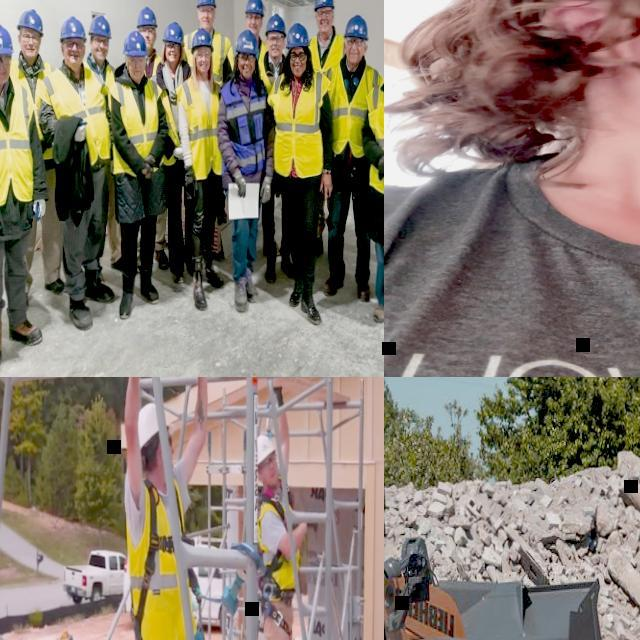helmet: (138, 400, 174, 448), (16, 7, 44, 37), (59, 15, 87, 44), (285, 23, 311, 49), (342, 15, 368, 40), (122, 31, 146, 58), (234, 30, 258, 55), (190, 29, 214, 54), (87, 14, 112, 38), (256, 435, 276, 465), (162, 21, 185, 45), (264, 14, 286, 38), (135, 6, 157, 29), (0, 22, 13, 55), (244, 0, 264, 16), (313, 0, 334, 12), (195, 0, 217, 8)
vest: (125, 478, 195, 640), (35, 65, 110, 168), (267, 69, 332, 179), (319, 59, 384, 159), (108, 77, 164, 179), (8, 58, 61, 160), (174, 78, 222, 182), (218, 79, 268, 175), (0, 71, 35, 208), (256, 488, 300, 590), (148, 72, 181, 168), (183, 28, 232, 84), (365, 72, 384, 192), (83, 59, 115, 110), (308, 34, 346, 74), (226, 38, 266, 72), (259, 52, 287, 92), (144, 55, 162, 79)
